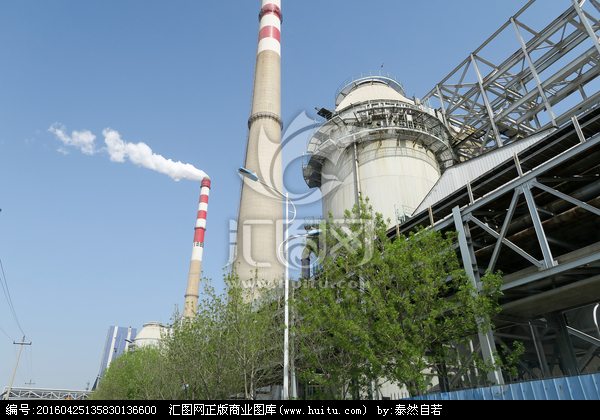dust: (56, 118, 218, 187)
